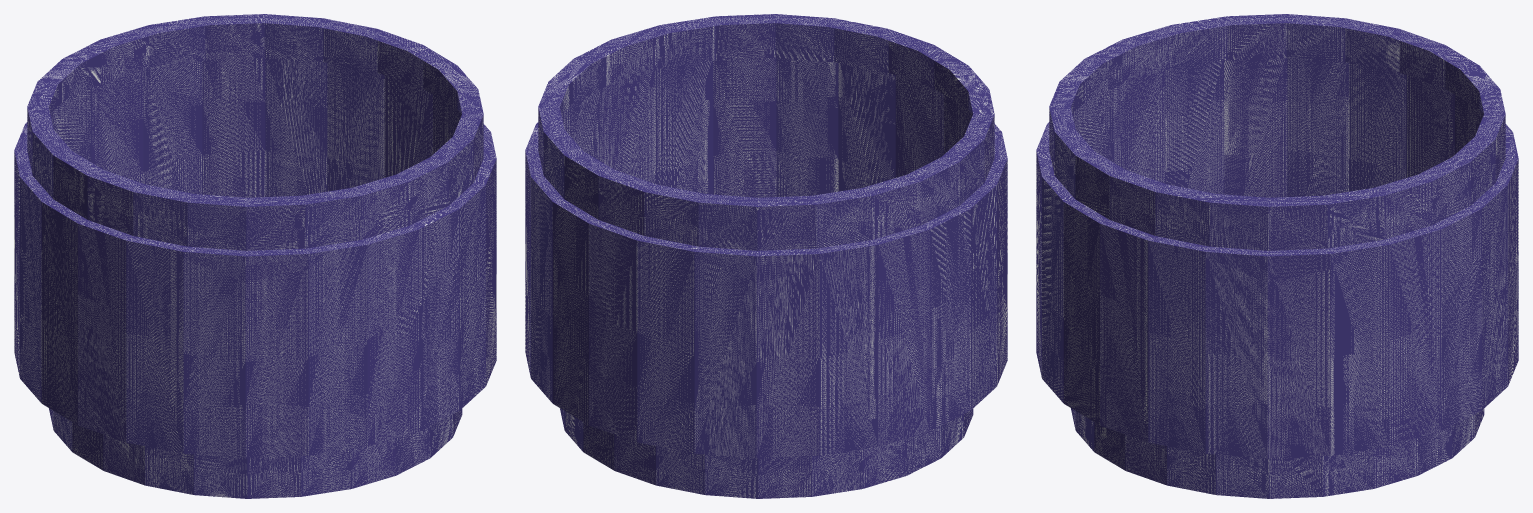
File: original-2.obj
3 renders of one model, left to right at view 1: azimuth 30°, elevation 25°; view 2: azimuth 150°, elevation 25°; view 3: azimuth 270°, elevation 25°, orthographic.
Visible parts, largest first — view 1: 3dw.9b9a4bb5550f00ea586350d6e78ecc7/Model/mesh1/mesh1-geometry/m; view 2: 3dw.9b9a4bb5550f00ea586350d6e78ecc7/Model/mesh1/mesh1-geometry/m; view 3: 3dw.9b9a4bb5550f00ea586350d6e78ecc7/Model/mesh1/mesh1-geometry/m.
Part boxes in pixels (bbox=[...]): 3dw.9b9a4bb5550f00ea586350d6e78ecc7/Model/mesh1/mesh1-geometry/m: bbox=[14, 14, 496, 498]; 3dw.9b9a4bb5550f00ea586350d6e78ecc7/Model/mesh1/mesh1-geometry/m: bbox=[525, 14, 1007, 498]; 3dw.9b9a4bb5550f00ea586350d6e78ecc7/Model/mesh1/mesh1-geometry/m: bbox=[1036, 14, 1518, 498].
Bounding box in the file's own units: 0.3242 × 0.2233 × 0.3242.
